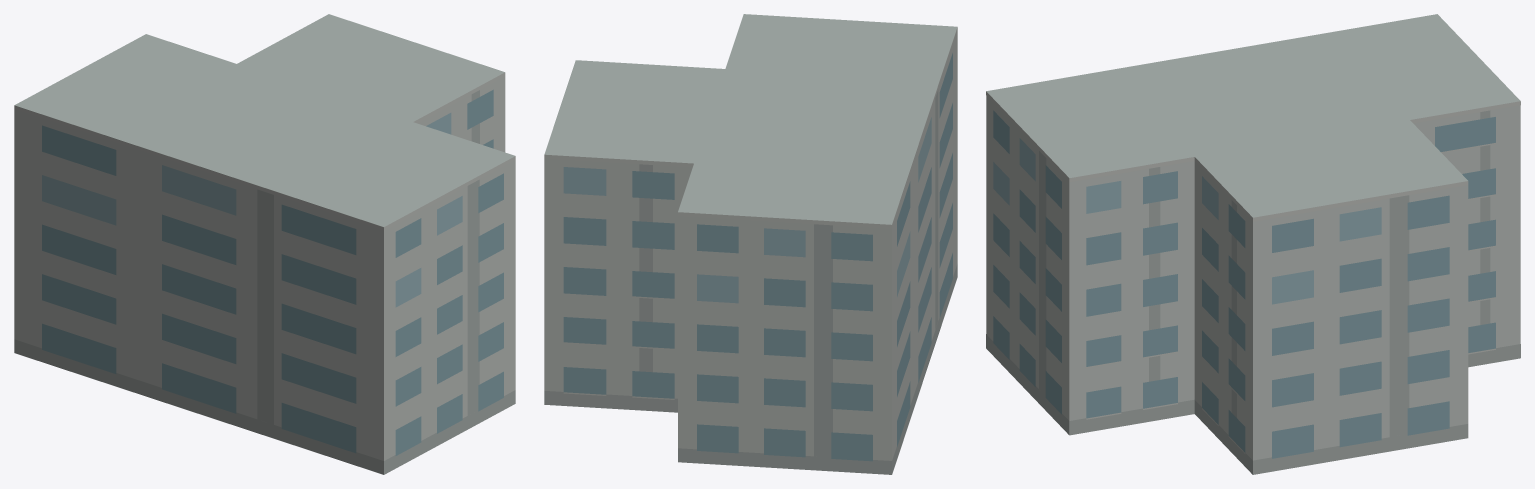
Rendered from residential-c28f51e5-5a61-475f-a702-a4bc0fd5f85c.glb.
The picture shows the model from 3 angles, left to right: view 1: azimuth 30°, elevation 25°; view 2: azimuth 150°, elevation 25°; view 3: azimuth 270°, elevation 25°; orthographic projection. The views are drawn at different scales.
Visible parts, largest first — view 1: residential-c28f51e5-5a61-475f-a702-a4bc0fd5f85c.tmp; view 2: residential-c28f51e5-5a61-475f-a702-a4bc0fd5f85c.tmp; view 3: residential-c28f51e5-5a61-475f-a702-a4bc0fd5f85c.tmp.
Boxes of the visible parts, bbox=[...] form: residential-c28f51e5-5a61-475f-a702-a4bc0fd5f85c.tmp: bbox=[14, 14, 515, 474]; residential-c28f51e5-5a61-475f-a702-a4bc0fd5f85c.tmp: bbox=[544, 14, 957, 474]; residential-c28f51e5-5a61-475f-a702-a4bc0fd5f85c.tmp: bbox=[986, 14, 1520, 474].
Bounding box in the file's own units: 25.92 × 15.25 × 28.74.
